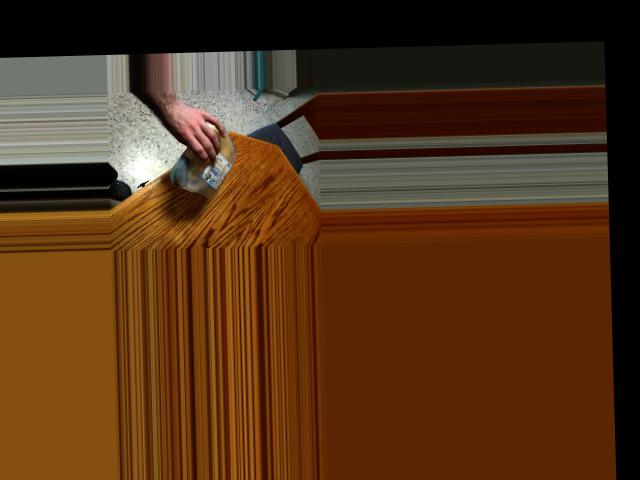cheese: (172, 116, 240, 196)
